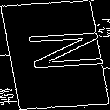N_E: (7, 32, 103, 78)
